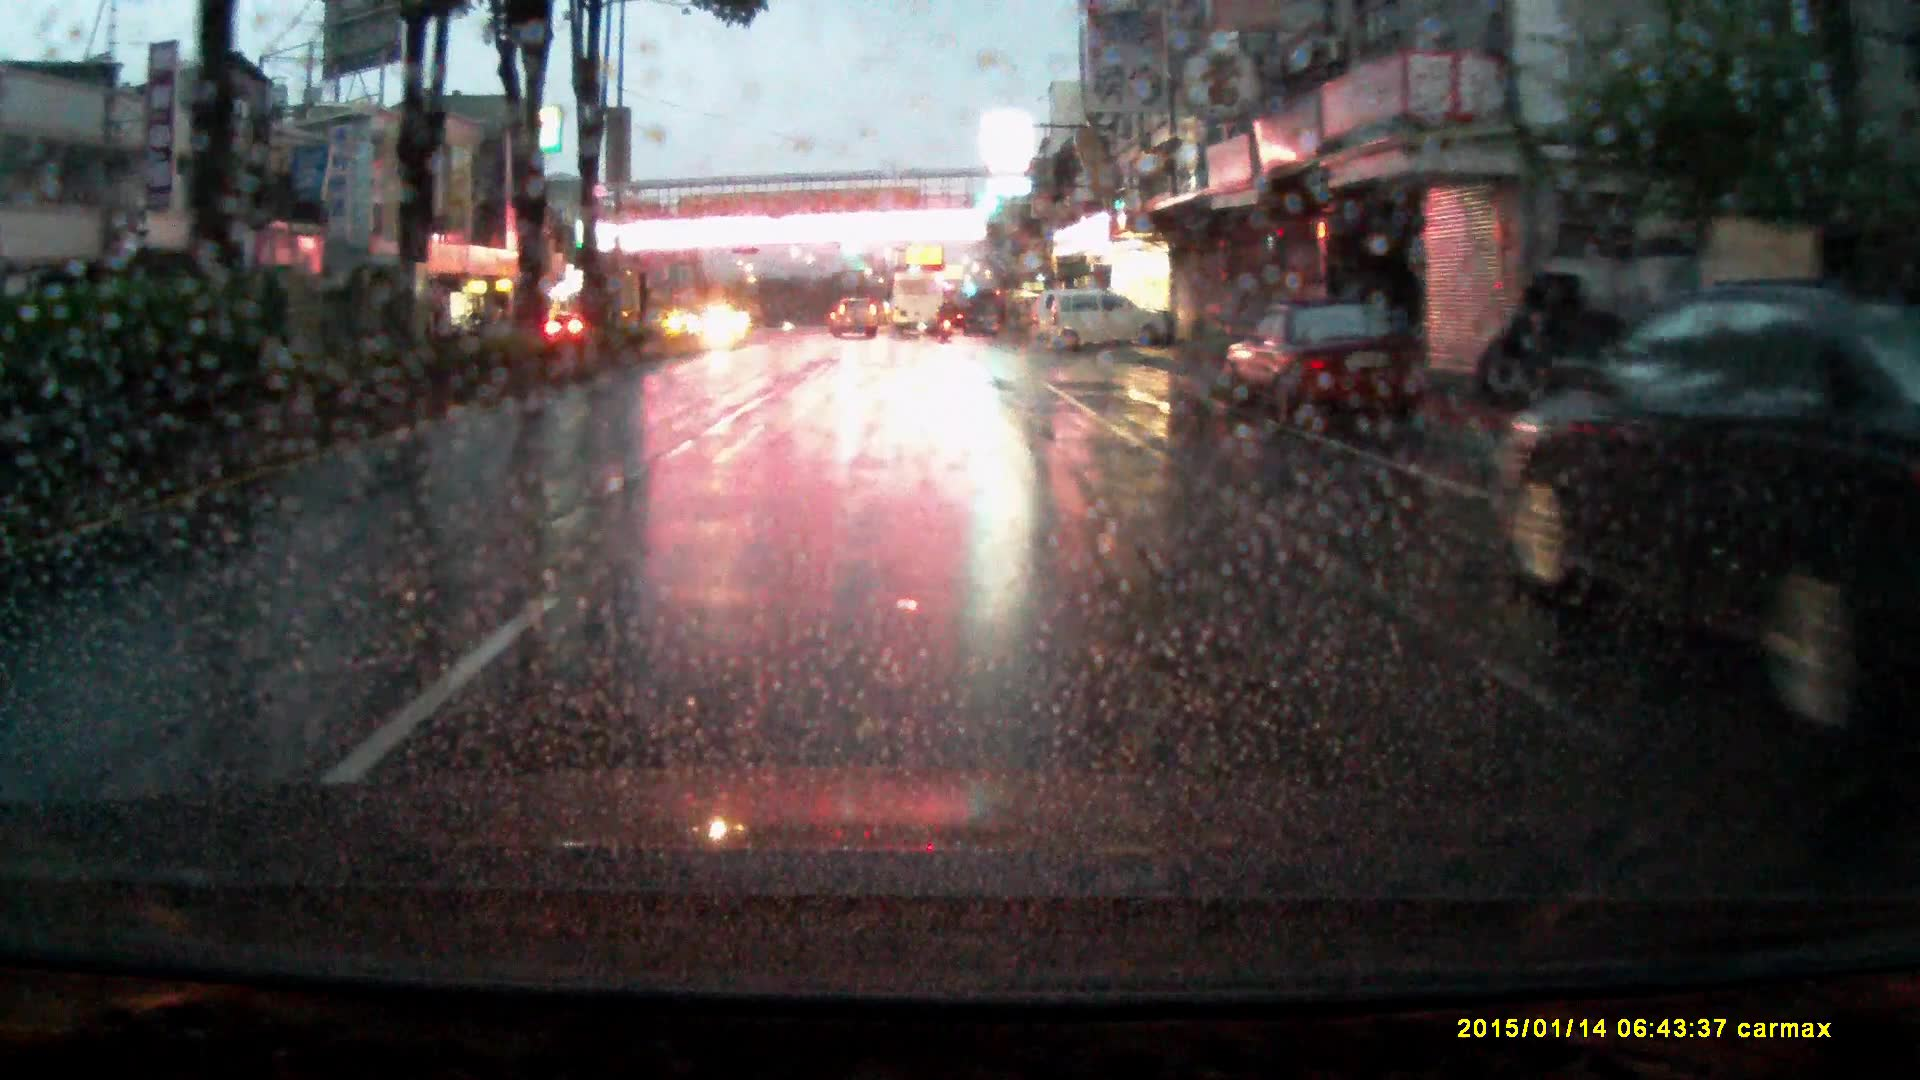vehicle: (1487, 284, 1920, 712), (1228, 302, 1445, 438), (1050, 290, 1172, 355), (890, 272, 945, 334), (833, 295, 880, 338), (1030, 290, 1065, 340)
